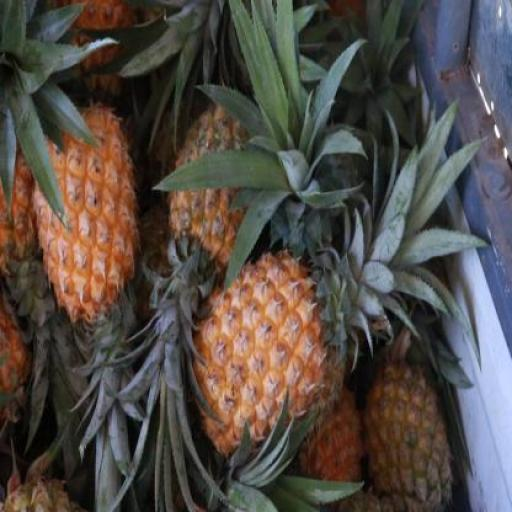------------------------------: (366, 339, 452, 511)
Pineapple - v8 v1: (189, 246, 338, 457), (28, 97, 140, 324)
